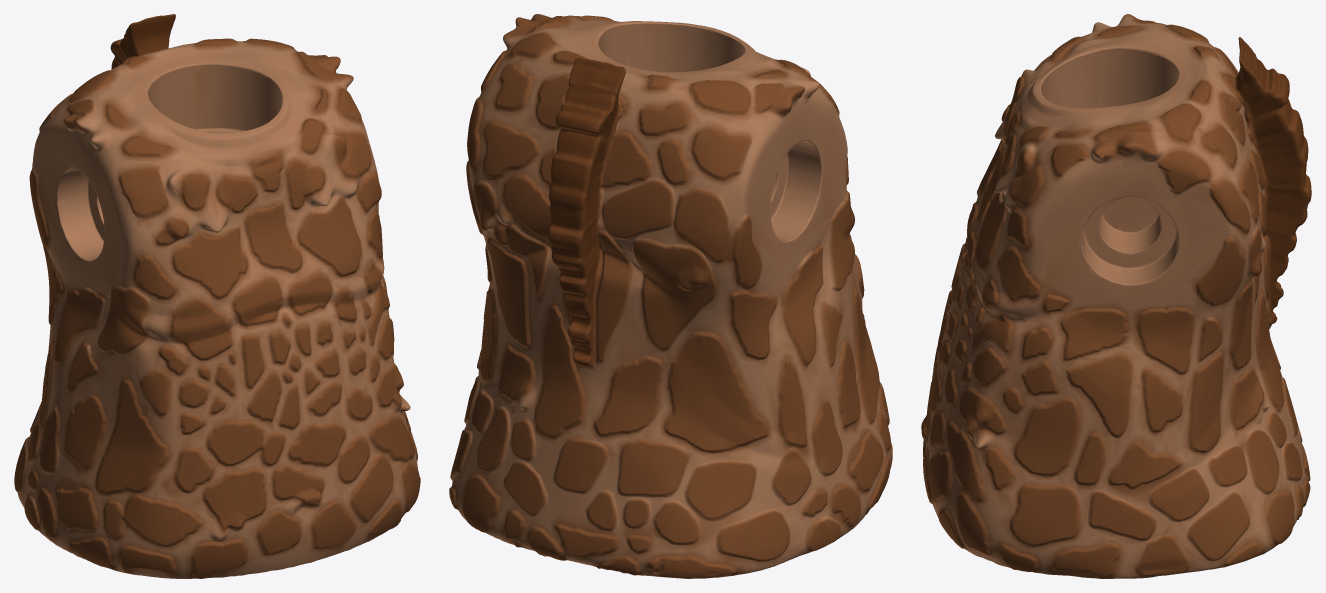
File: Buste_Girafe.glb
The picture shows the model from 3 angles, left to right: view 1: azimuth 30°, elevation 25°; view 2: azimuth 150°, elevation 25°; view 3: azimuth 270°, elevation 25°; orthographic projection. The views are drawn at different scales.
Parts seen in each view (by area): view 1: Buste_Girafe; view 2: Buste_Girafe; view 3: Buste_Girafe.
Part boxes in pixels (<box>): Buste_Girafe: <box>14,14,420,578</box>; Buste_Girafe: <box>449,14,892,578</box>; Buste_Girafe: <box>921,14,1311,578</box>.
Bounding box in the file's own units: 3.77 × 4.66 × 3.65.
